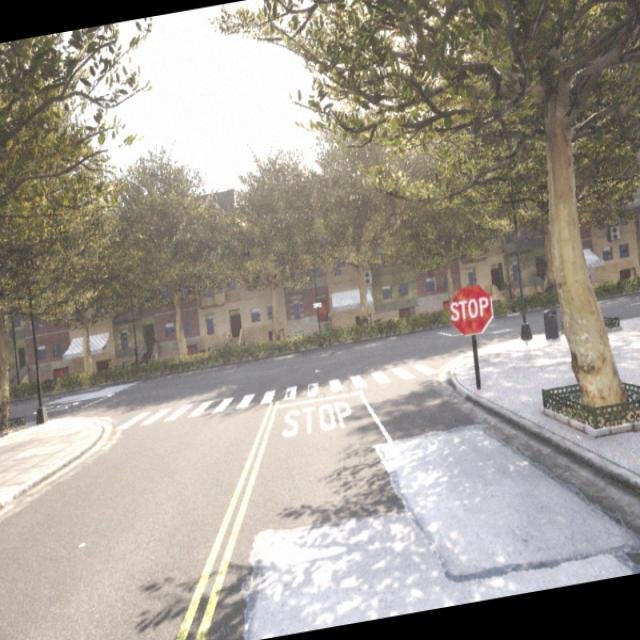stop sign: (446, 282, 494, 337), (450, 295, 490, 322)
